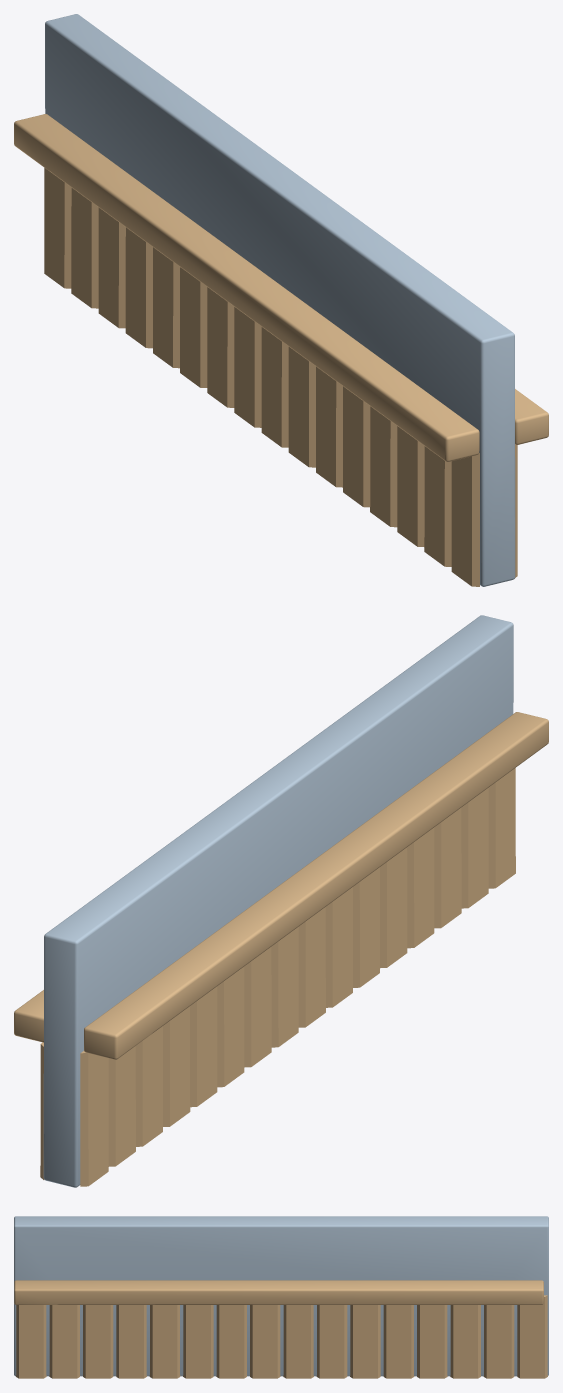
File: uzun_iç_duvar.fbx
3 renders of one model, top to bottom at view 1: azimuth 30°, elevation 25°; view 2: azimuth 150°, elevation 25°; view 3: azimuth 270°, elevation 25°, orthographic. The views are drawn at different scales.
Visible parts, largest first — view 1: Cube.112, Cube.113, Cube.116, Cube.114; view 2: Cube.112, Cube.113, Cube.116, Cube.114; view 3: Cube.112, Cube.095, Cube.114.
Boxes of the visible parts, left/top/right/bottom form: Cube.112: left=45, top=14, right=515, bottom=586; Cube.113: left=44, top=168, right=479, bottom=586; Cube.116: left=14, top=114, right=479, bottom=461; Cube.114: left=515, top=389, right=548, bottom=444; Cube.112: left=43, top=615, right=513, bottom=1187; Cube.113: left=80, top=768, right=515, bottom=1186; Cube.116: left=84, top=712, right=548, bottom=1059; Cube.114: left=14, top=990, right=43, bottom=1042; Cube.112: left=14, top=1216, right=548, bottom=1376; Cube.095: left=16, top=1295, right=547, bottom=1378; Cube.114: left=14, top=1280, right=543, bottom=1304.
Size of the model in its own units: 236 by 538 by 1727.
